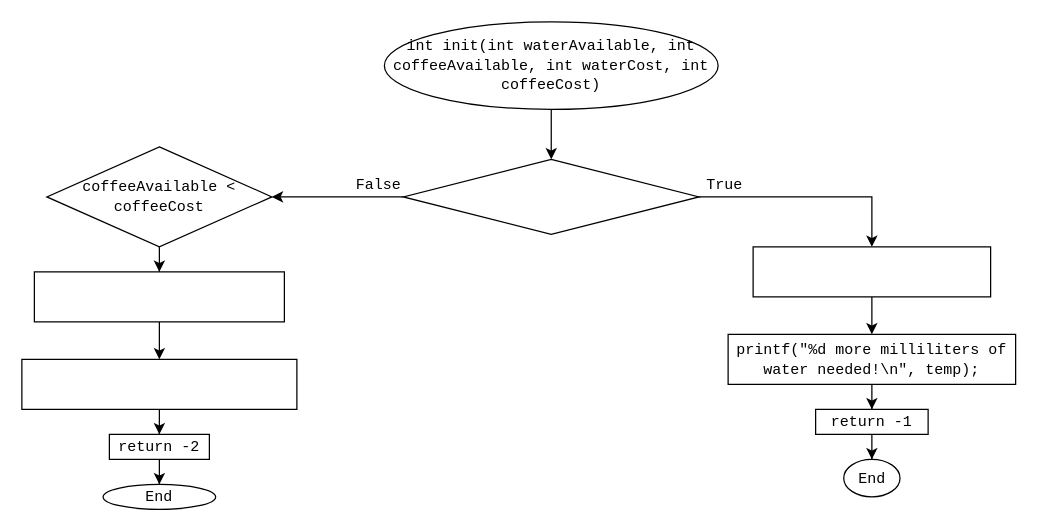
Image size: 1038x531. Some labels were removed from this diagram. The shapes that lost their labels are listed below. From the top down, each one's centre as x and y in pixels, then its label:
[550,196]: waterAvailable < waterCost
[871,271]: int temp = waterCost - waterAvailable;
[158,296]: int temp = coffeeCost - coffeeAvailable
[159,383]: printf("%d more grams of coffee needed!\n", temp)
